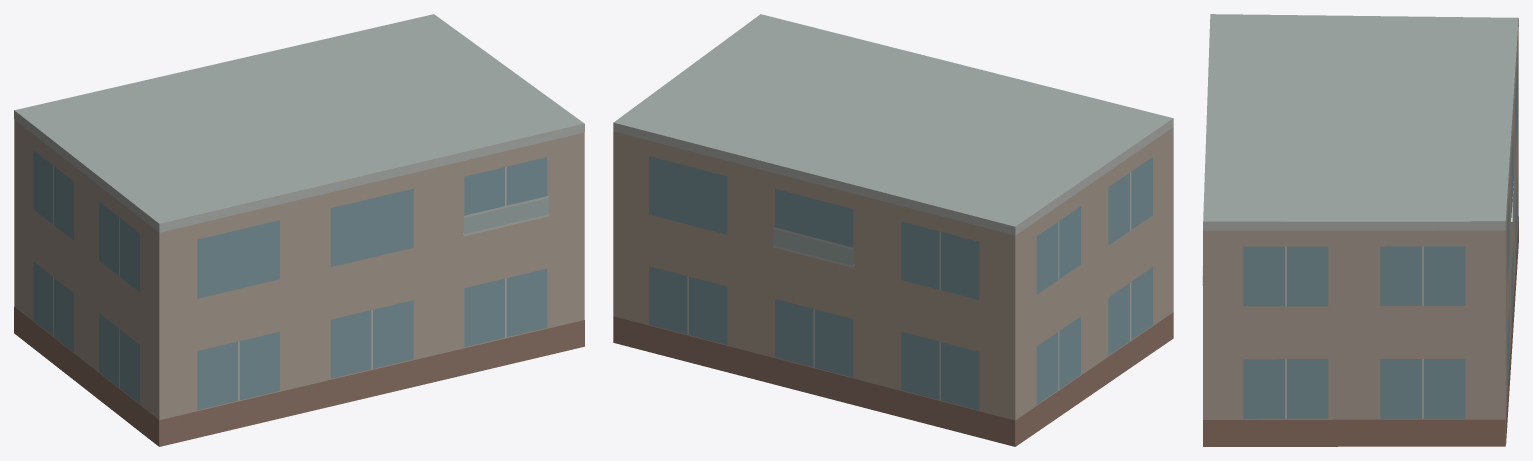
Rendered from survey-upis-32520885.glb.
3 views of the same model, side by side, from view 1: azimuth 30°, elevation 25°; view 2: azimuth 150°, elevation 25°; view 3: azimuth 270°, elevation 25° (orthographic). The views are drawn at different scales.
Visible parts, largest first — view 1: survey-upis-32520885.tmp; view 2: survey-upis-32520885.tmp; view 3: survey-upis-32520885.tmp.
Part boxes in pixels (x1=…): survey-upis-32520885.tmp: x1=14, y1=14, x2=584, y2=446; survey-upis-32520885.tmp: x1=613, y1=14, x2=1173, y2=446; survey-upis-32520885.tmp: x1=1202, y1=14, x2=1518, y2=446.
Bounding box in the file's own units: 12.09 × 6.1 × 7.78.
